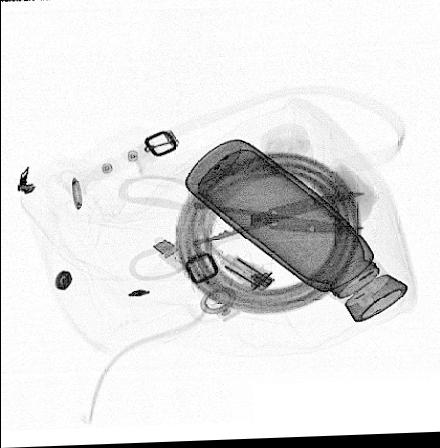Scissors: (117, 174, 364, 282)
